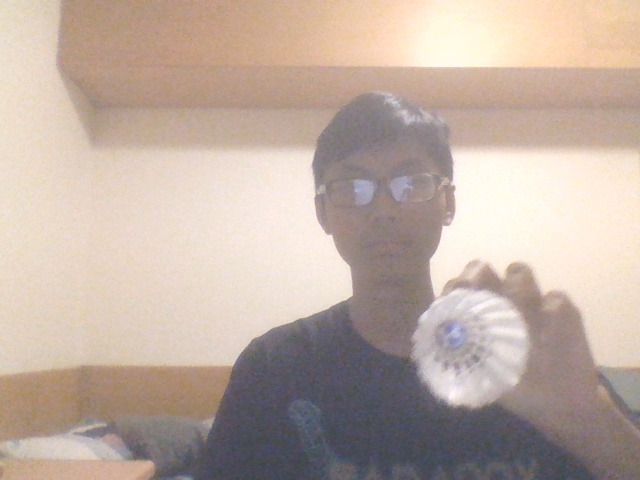human: (195, 91, 640, 480)
shuttle: (411, 288, 530, 410)
